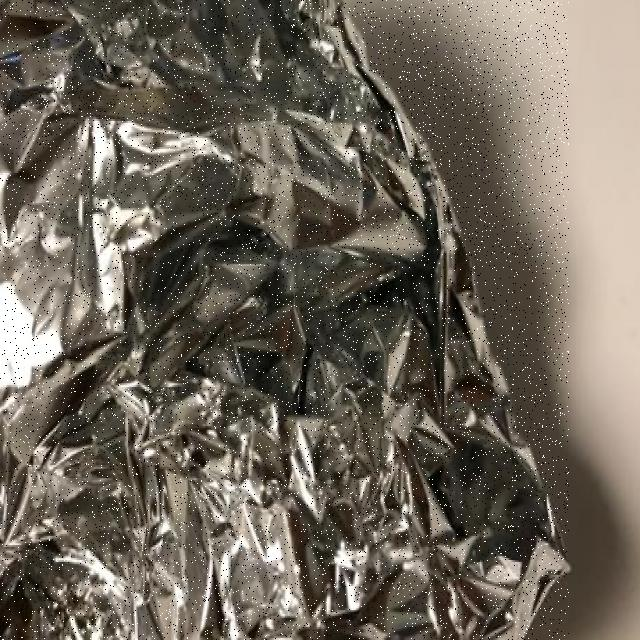metal: (0, 0, 569, 640)
